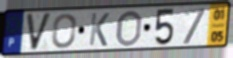5: (153, 7, 177, 47)
7: (182, 7, 206, 45)
K: (88, 12, 111, 48)
O: (114, 9, 144, 48), (51, 12, 78, 50)
V: (24, 11, 54, 52)
